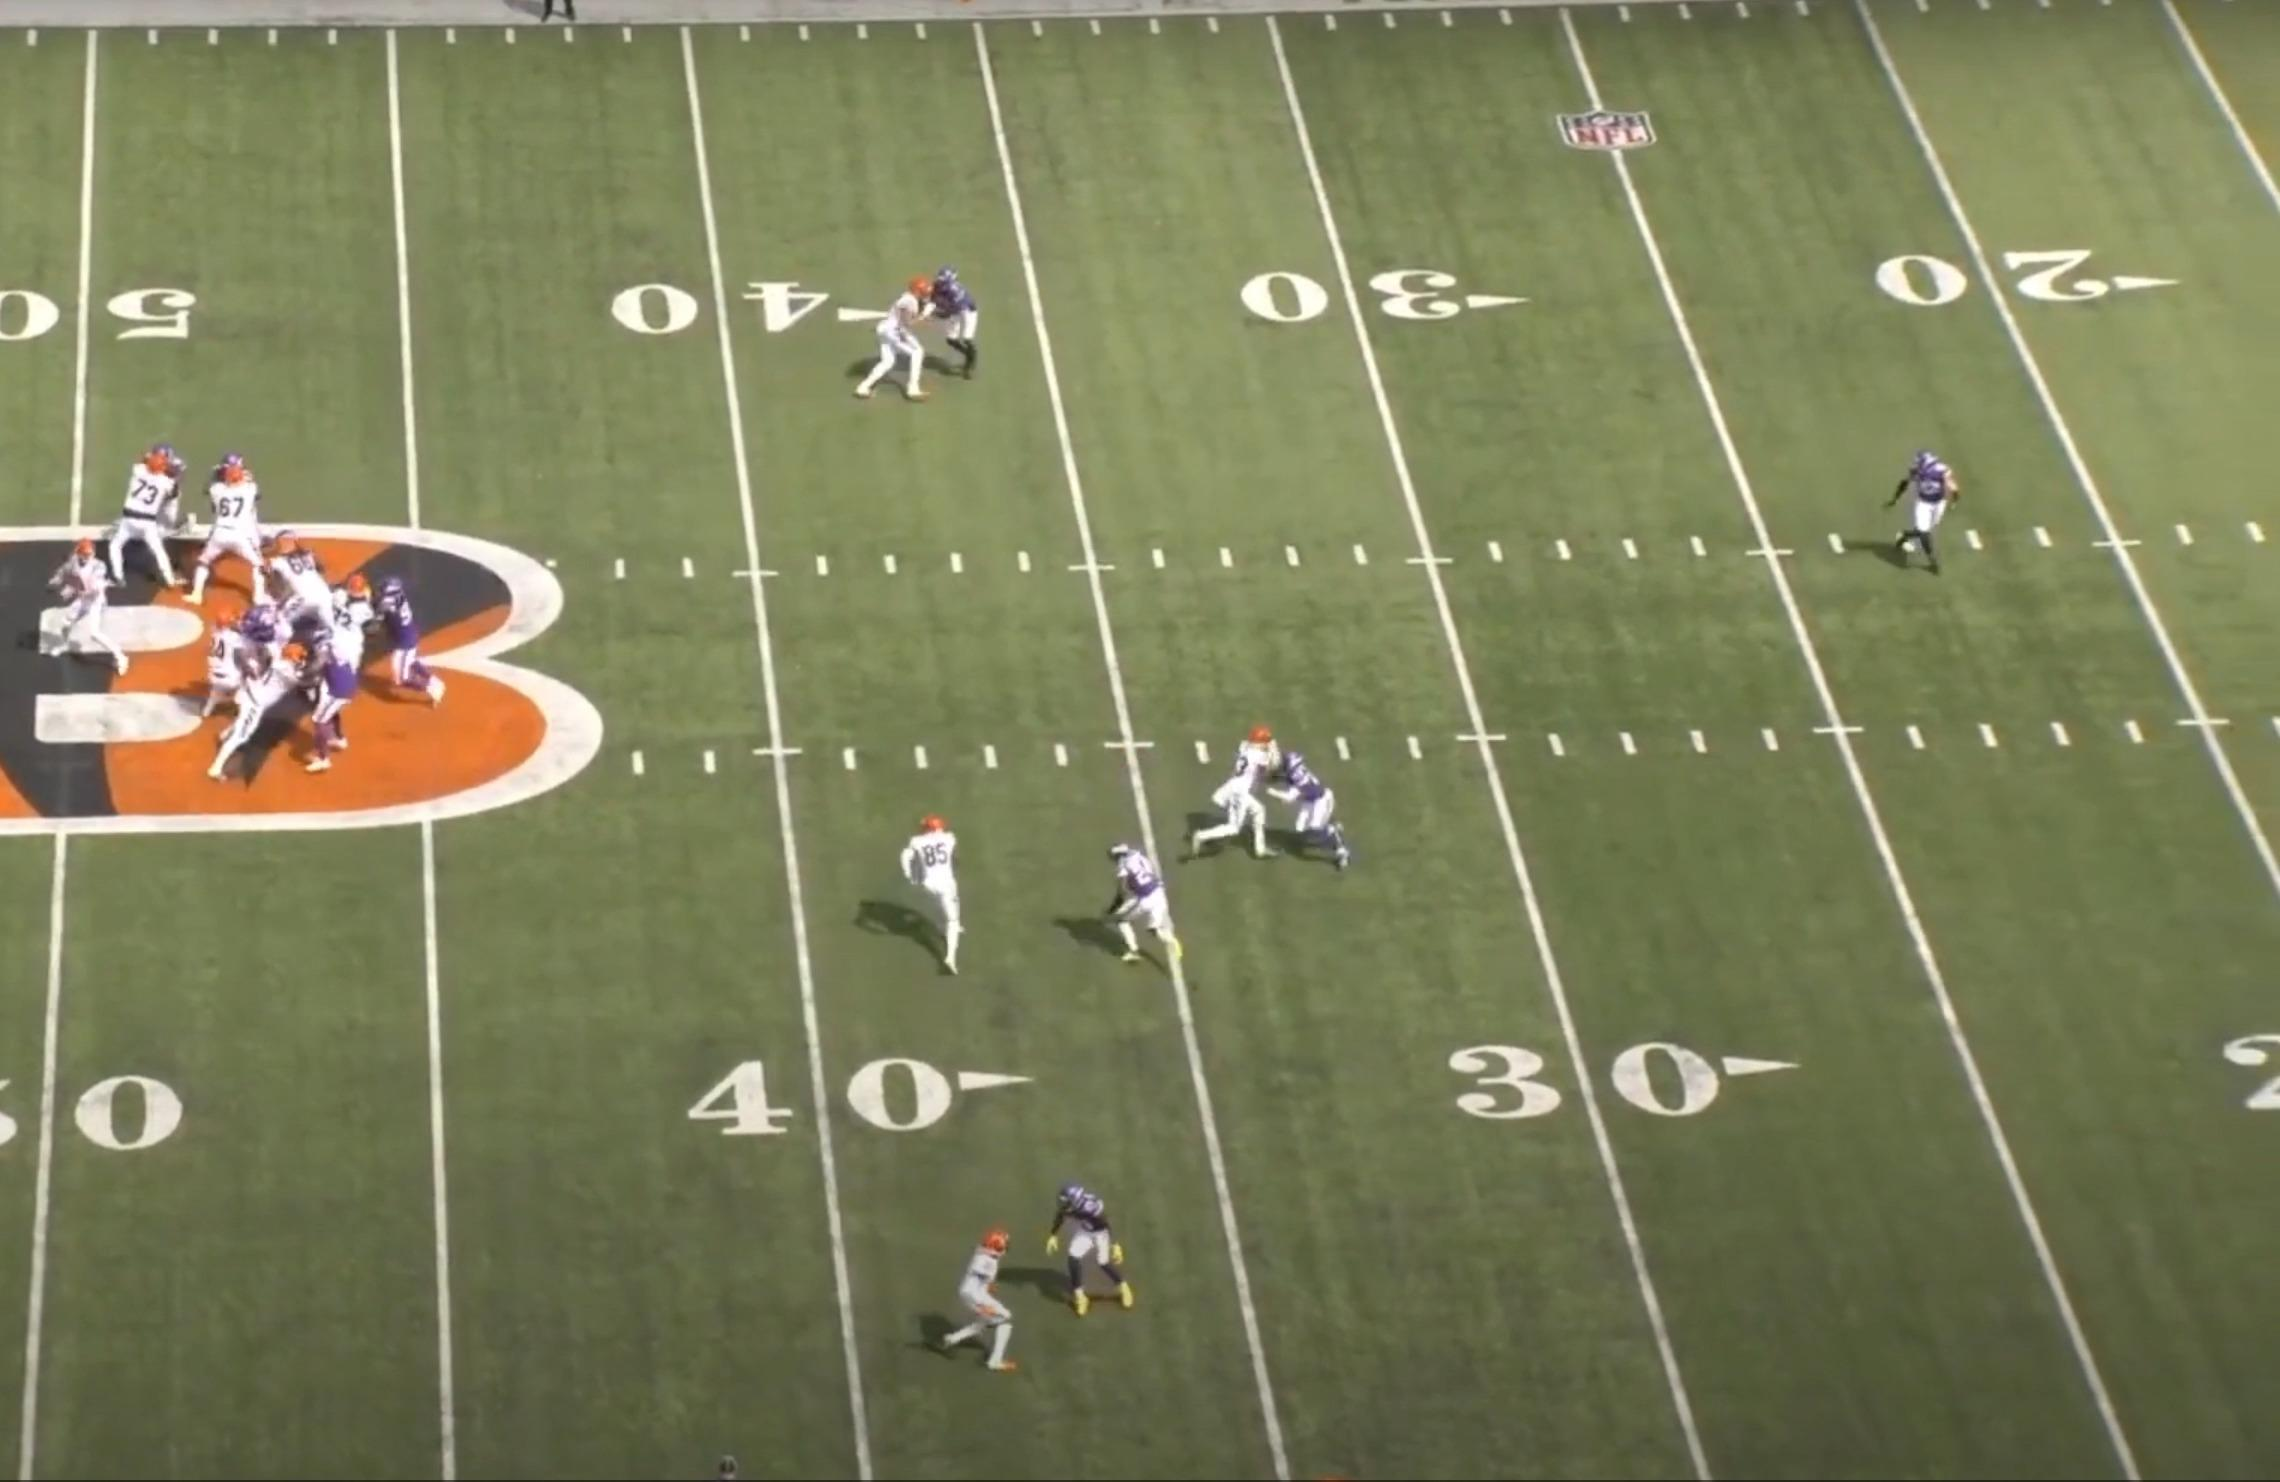defense: (1045, 1180, 1143, 1332), (1097, 832, 1185, 972), (1883, 444, 1964, 580), (376, 567, 449, 709), (1281, 751, 1358, 881), (309, 620, 366, 779), (932, 263, 982, 392), (150, 440, 196, 560), (211, 447, 264, 505), (238, 600, 283, 660)
oline: (194, 641, 304, 788), (188, 459, 278, 618), (110, 447, 183, 596), (276, 540, 344, 668), (324, 568, 384, 676)
qb: (45, 538, 140, 683)
ref: (530, 0, 588, 28)
skill: (946, 1221, 1034, 1386), (1182, 723, 1281, 866), (892, 806, 969, 977), (848, 276, 942, 412), (191, 611, 261, 729)
